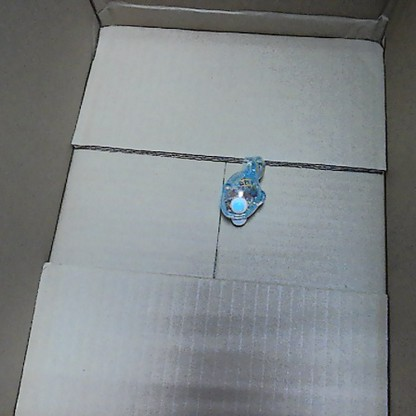bluefish: (213, 154, 270, 227)
